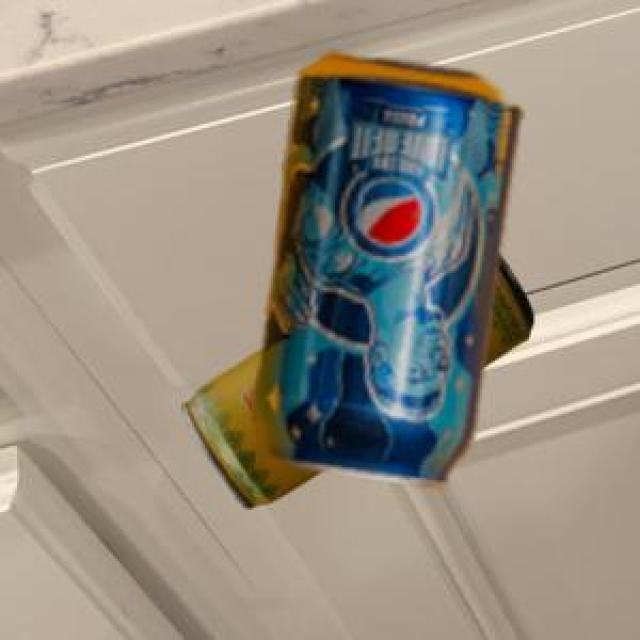logam: (251, 50, 517, 483), (180, 253, 530, 505)
